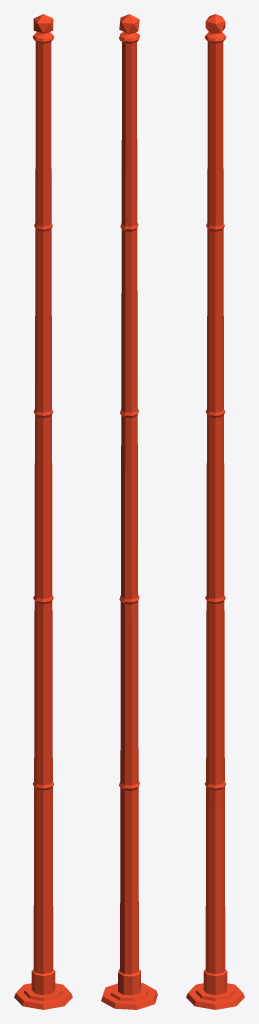
File: SM_Flagpole_B_City.fbx
3 views of the same model, side by side, from view 1: azimuth 90°, elevation 25°; view 2: azimuth 150°, elevation 25°; view 3: azimuth 270°, elevation 25° (orthographic).
Visible parts, largest first — view 1: SM_Flagpole_B_City; view 2: SM_Flagpole_B_City; view 3: SM_Flagpole_B_City.
Boxes of the visible parts, x1=… form: SM_Flagpole_B_City: x1=14, y1=14, x2=72, y2=1009; SM_Flagpole_B_City: x1=101, y1=14, x2=157, y2=1009; SM_Flagpole_B_City: x1=186, y1=14, x2=244, y2=1009.
Bounding box in the file's own units: 0.5156 × 9.5 × 0.5156.
